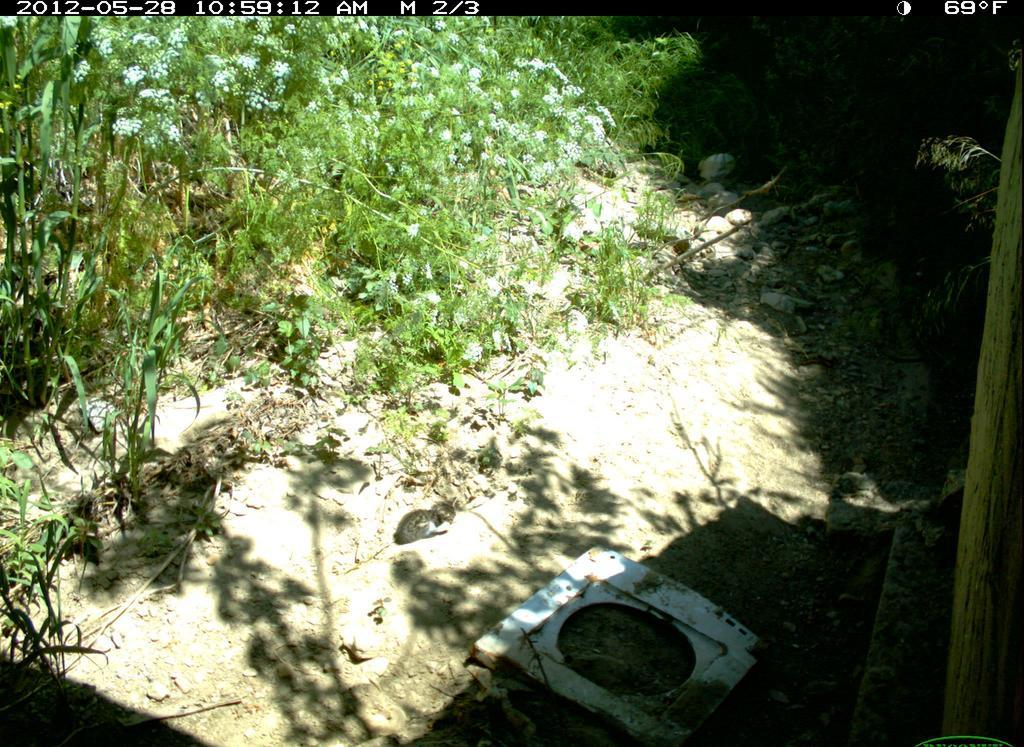cat: (383, 493, 468, 555)
